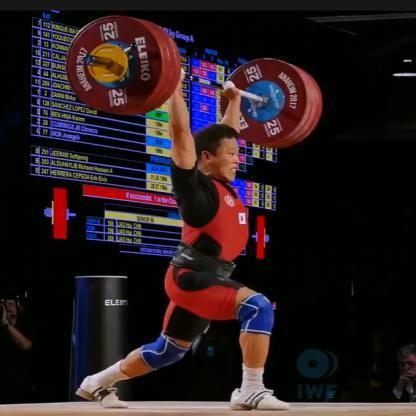barbell: (68, 16, 322, 149)
